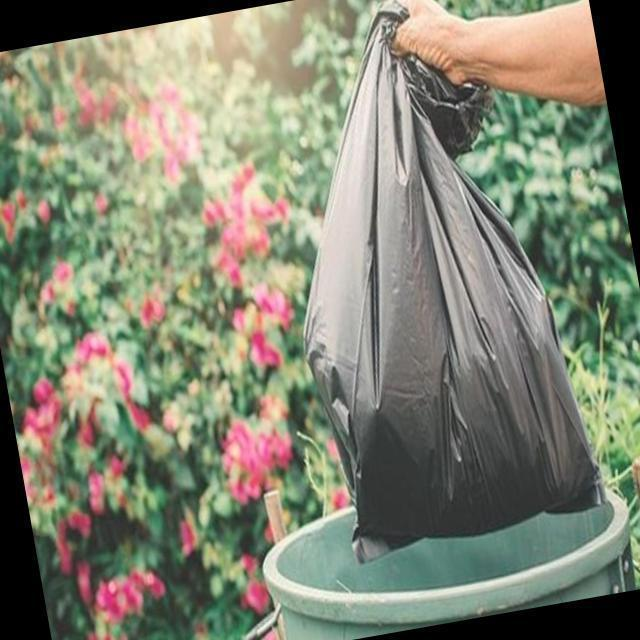Garbage_Bag: (258, 0, 607, 572)
